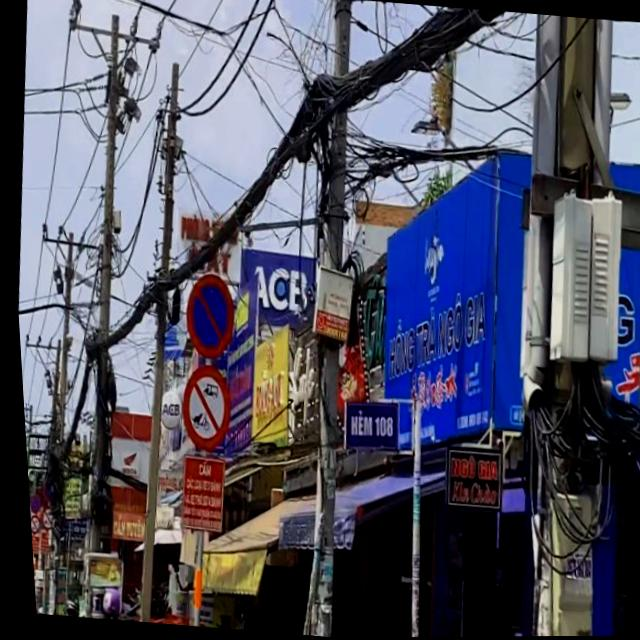Cam do xe: (173, 271, 234, 363)
